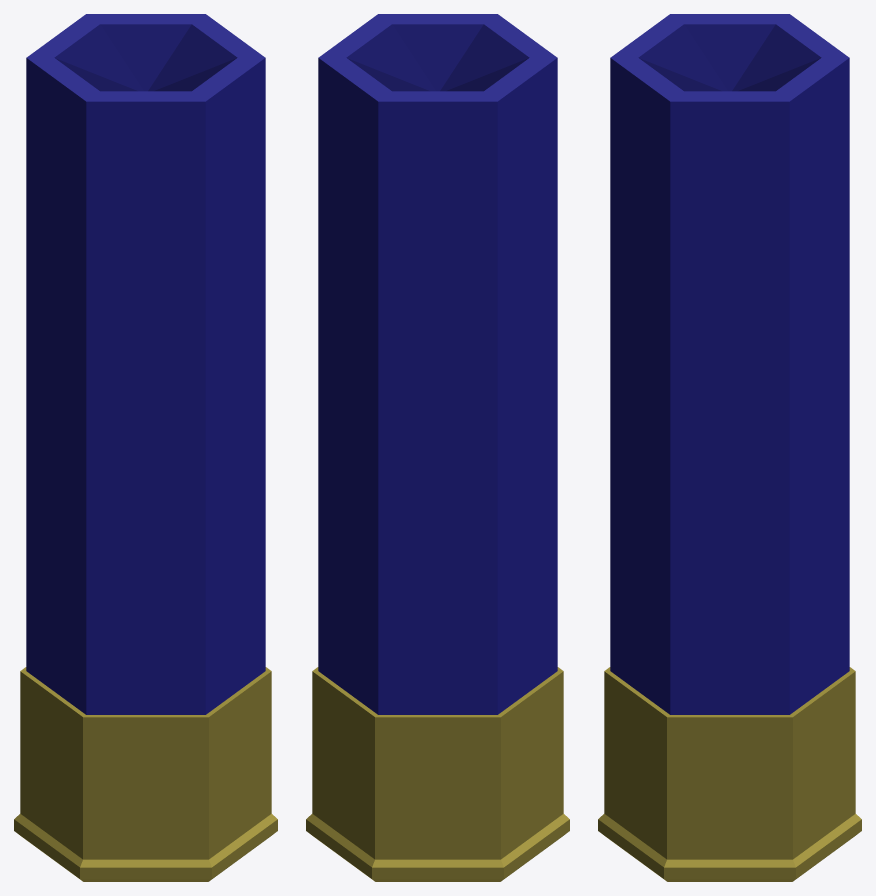
Rendered from MW1_Ammunition_12ga_02.fbx.
The picture shows the model from 3 angles, left to right: view 1: azimuth 30°, elevation 25°; view 2: azimuth 150°, elevation 25°; view 3: azimuth 270°, elevation 25°; orthographic projection.
Visible parts, largest first — view 1: Ammunition_12ga_02; view 2: Ammunition_12ga_02; view 3: Ammunition_12ga_02.
Part boxes in pixels (x1,y1,x2,y2): Ammunition_12ga_02: [14, 14, 277, 881]; Ammunition_12ga_02: [306, 14, 569, 881]; Ammunition_12ga_02: [598, 14, 861, 881].
Bounding box in the file's own units: 1.7 × 6.4 × 1.96.
